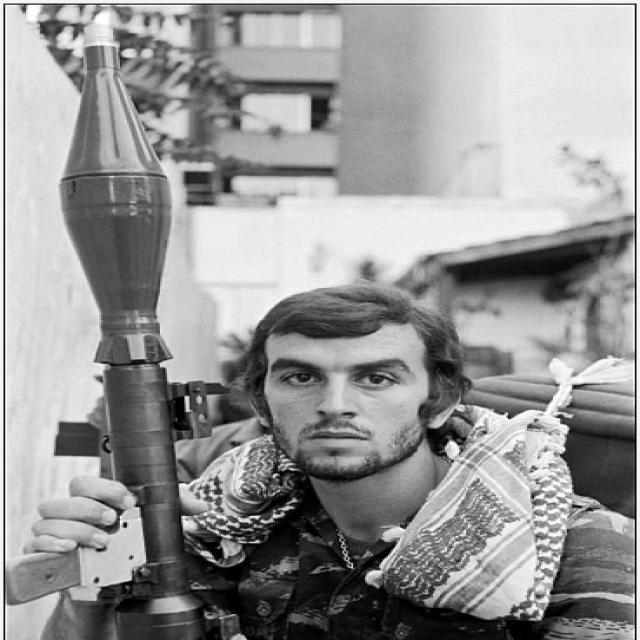bazooka: (51, 15, 250, 640)
